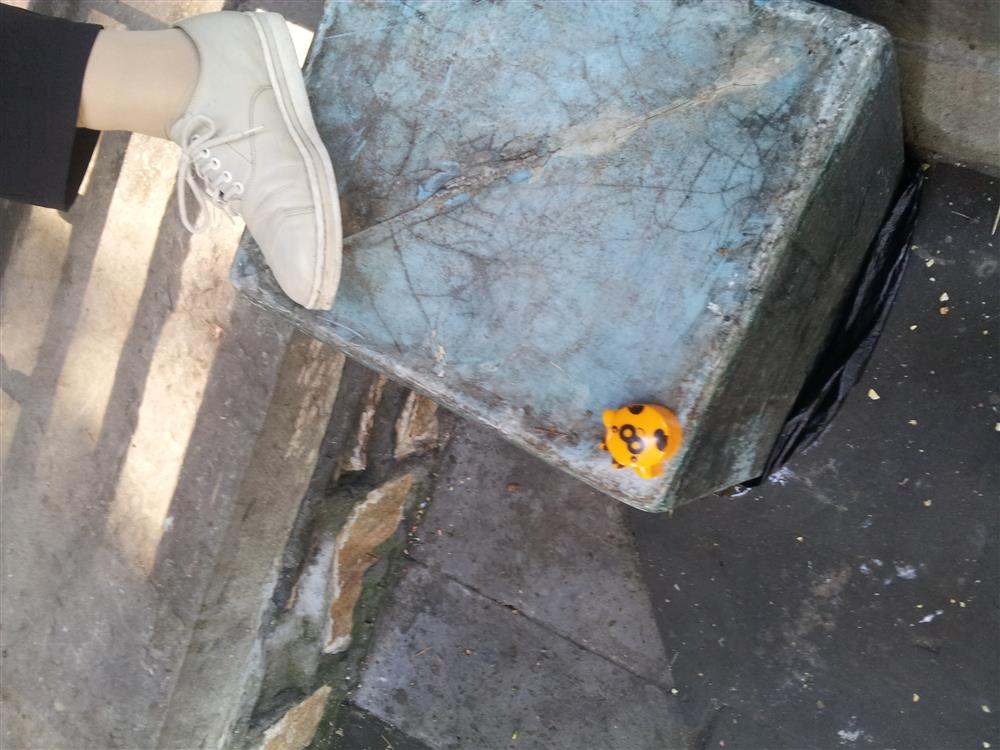toy_cow: (587, 395, 690, 481)
